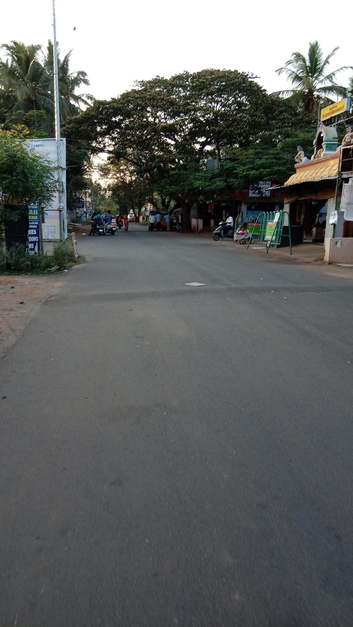bump: (41, 281, 353, 306)
